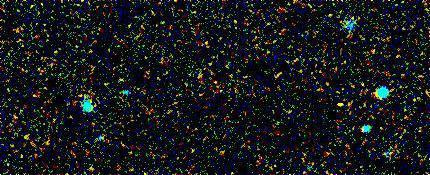star: (325, 89, 355, 119)
